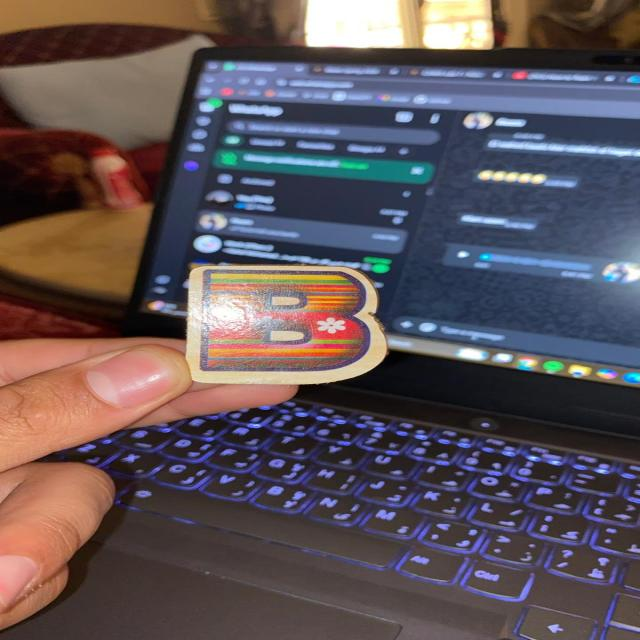B: (186, 265, 387, 384)
